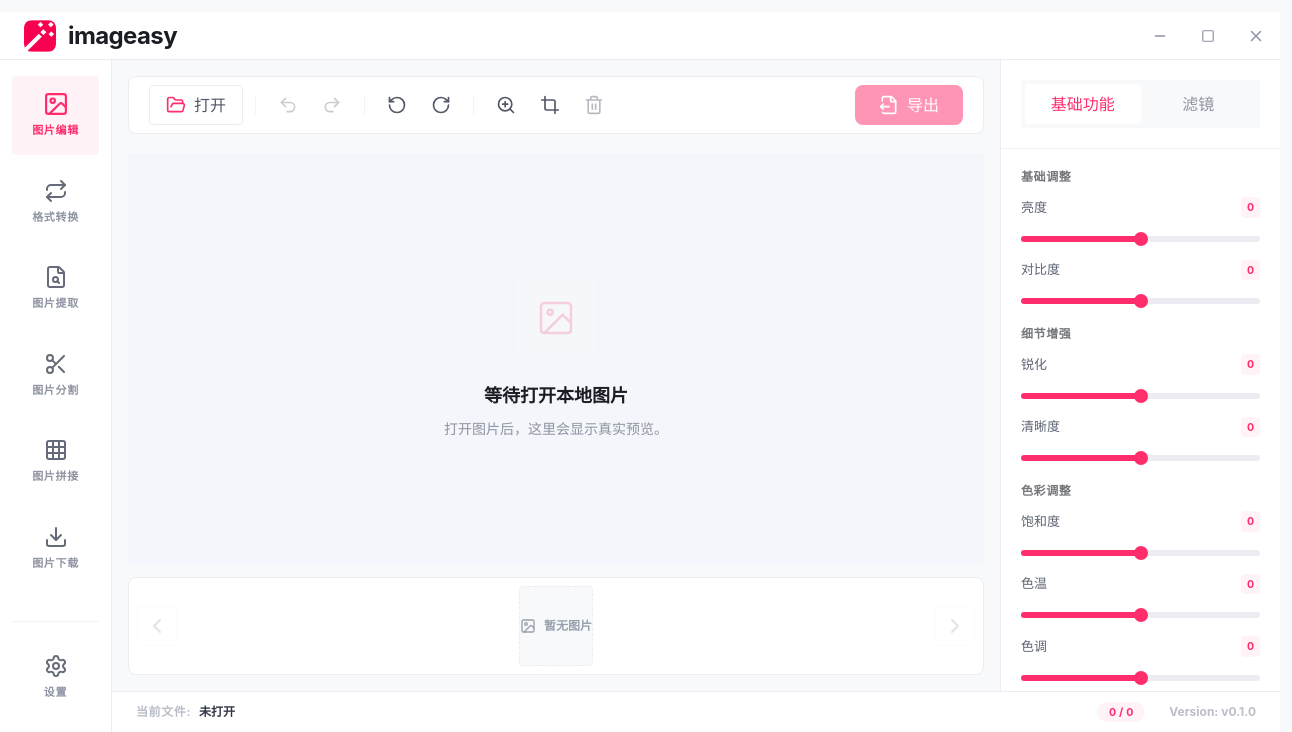
Test case: App bootstrap › opens the image download workspace from navigation
Click the button "图片下载".
click(56, 548)  # box [12,508,99,587]
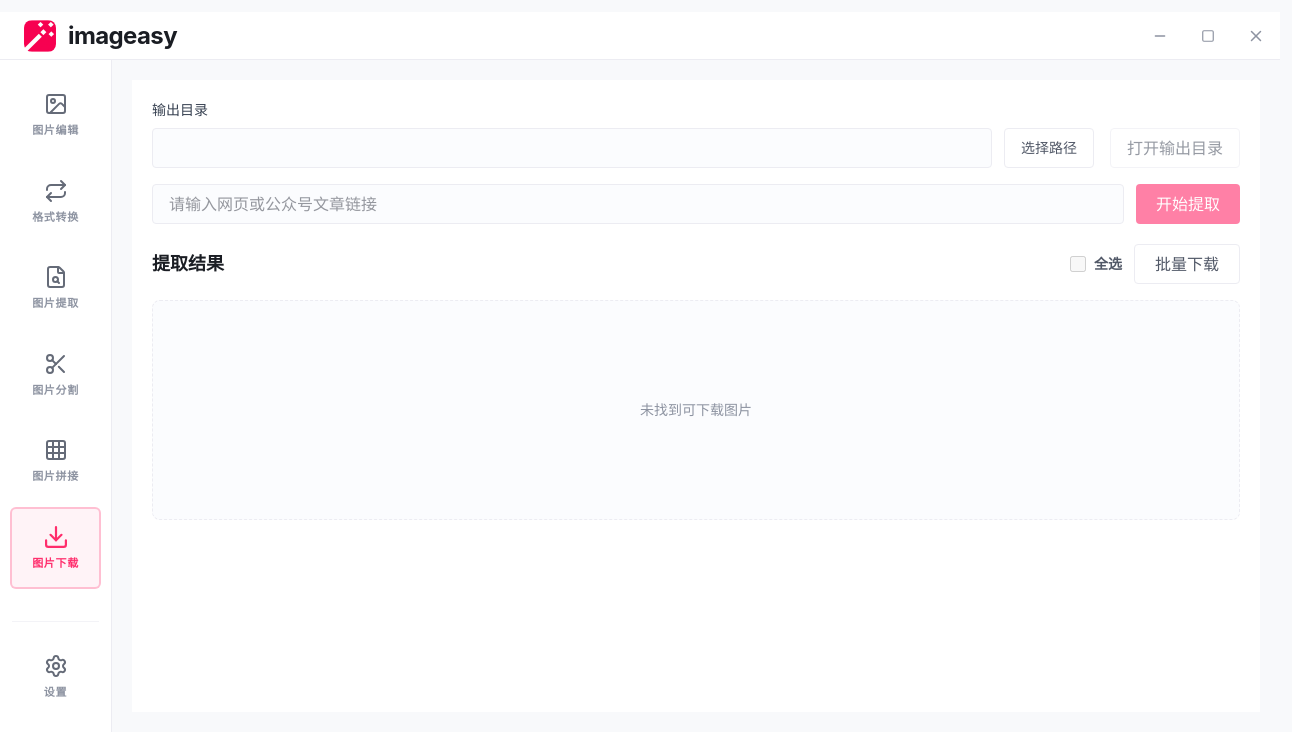
Expected: the heading "提取结果" is shown, [152,250,224,278]
Expected: the button "开始提取" is shown, [1136,184,1240,224]
